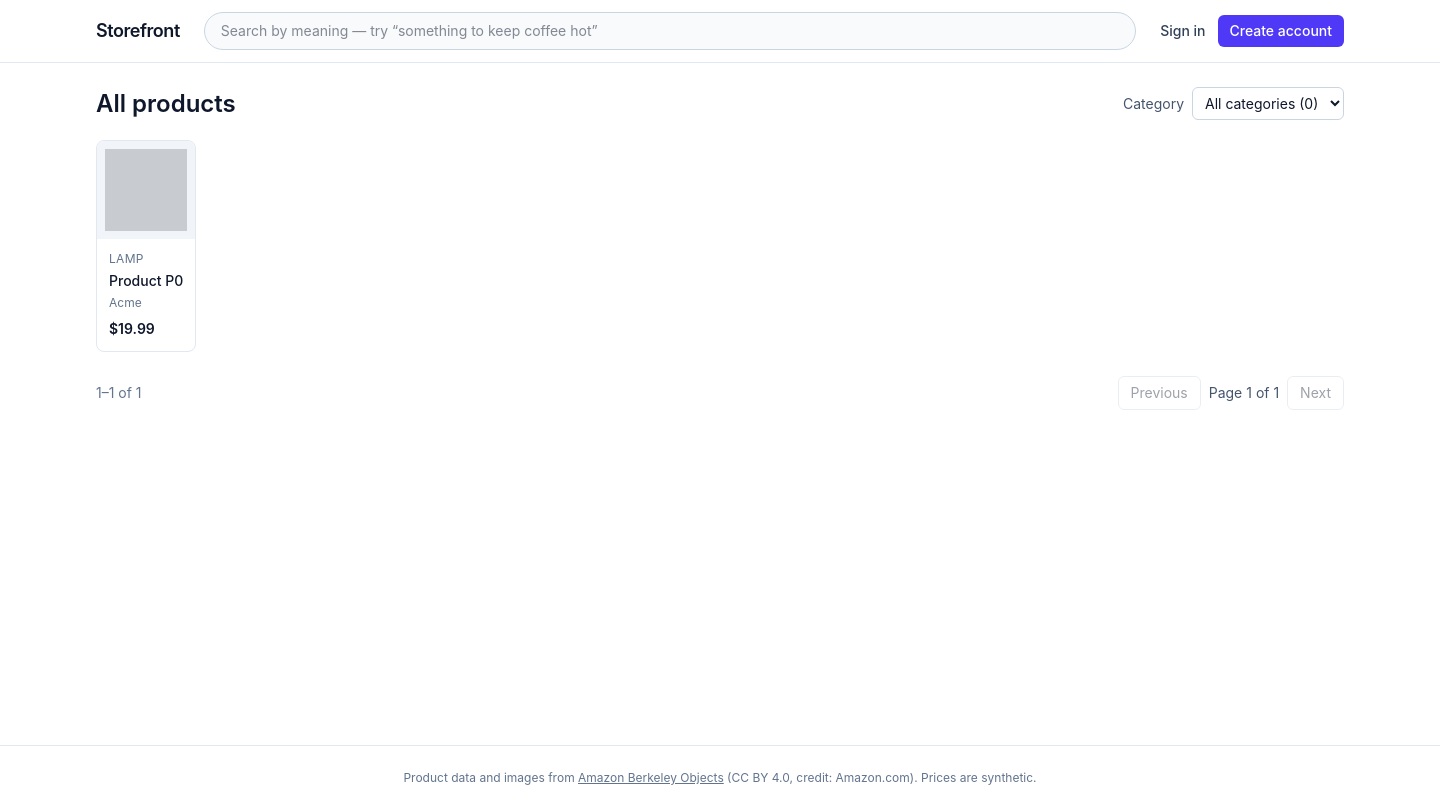
Scenario: catalog page › searches from the header
The image size is (1440, 810).
Expected: the header is shown, [0, 0, 1439, 63]
In the search field named "Search products": (670, 31) [204, 12, 1136, 50], type "rug"
Then press Enter
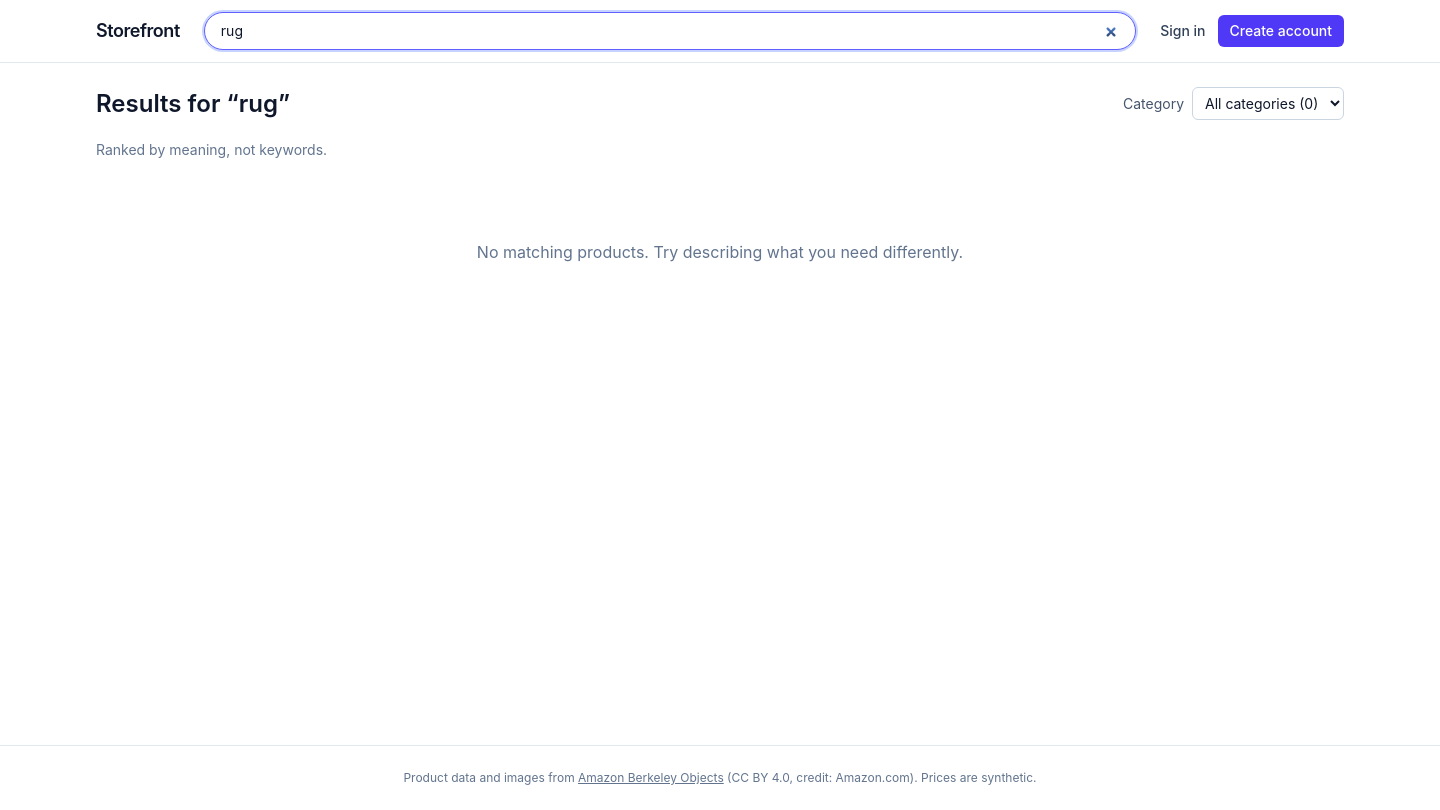
Result: the text "No matching products" is shown at [477, 242, 963, 262]
